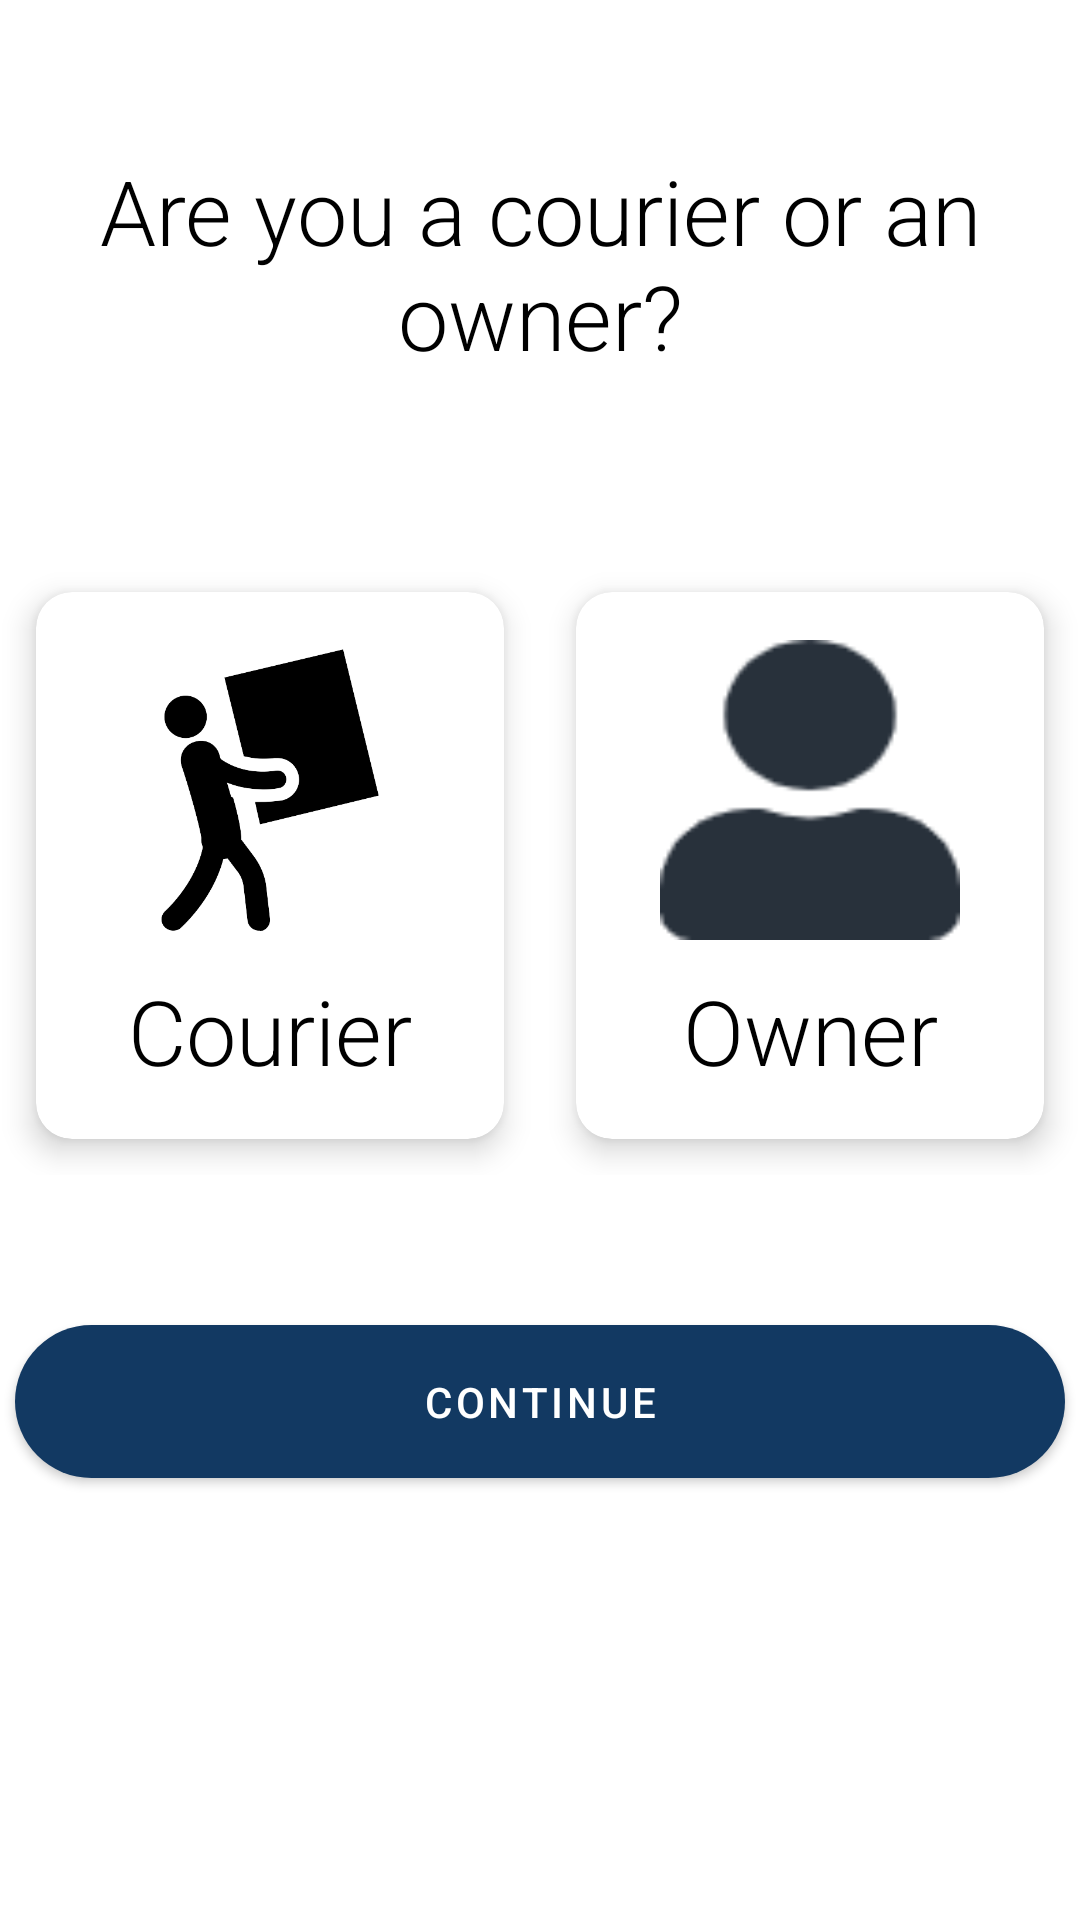

Where icons sit on this 1080px×1920px app screen, as {"x1": x1, "y1": y1, "x2": x2, "y2": y2}:
user profile: {"x1": 660, "y1": 640, "x2": 960, "y2": 940}
